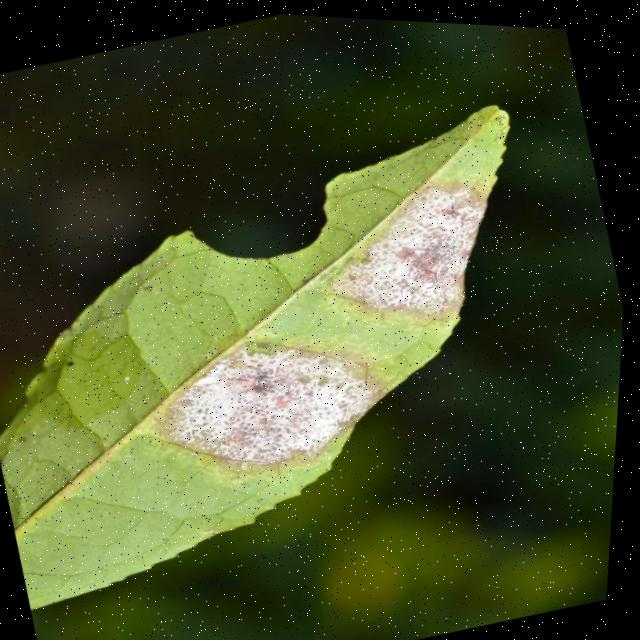Tea exobasidium blight: (156, 293, 406, 484), (322, 160, 520, 330)
